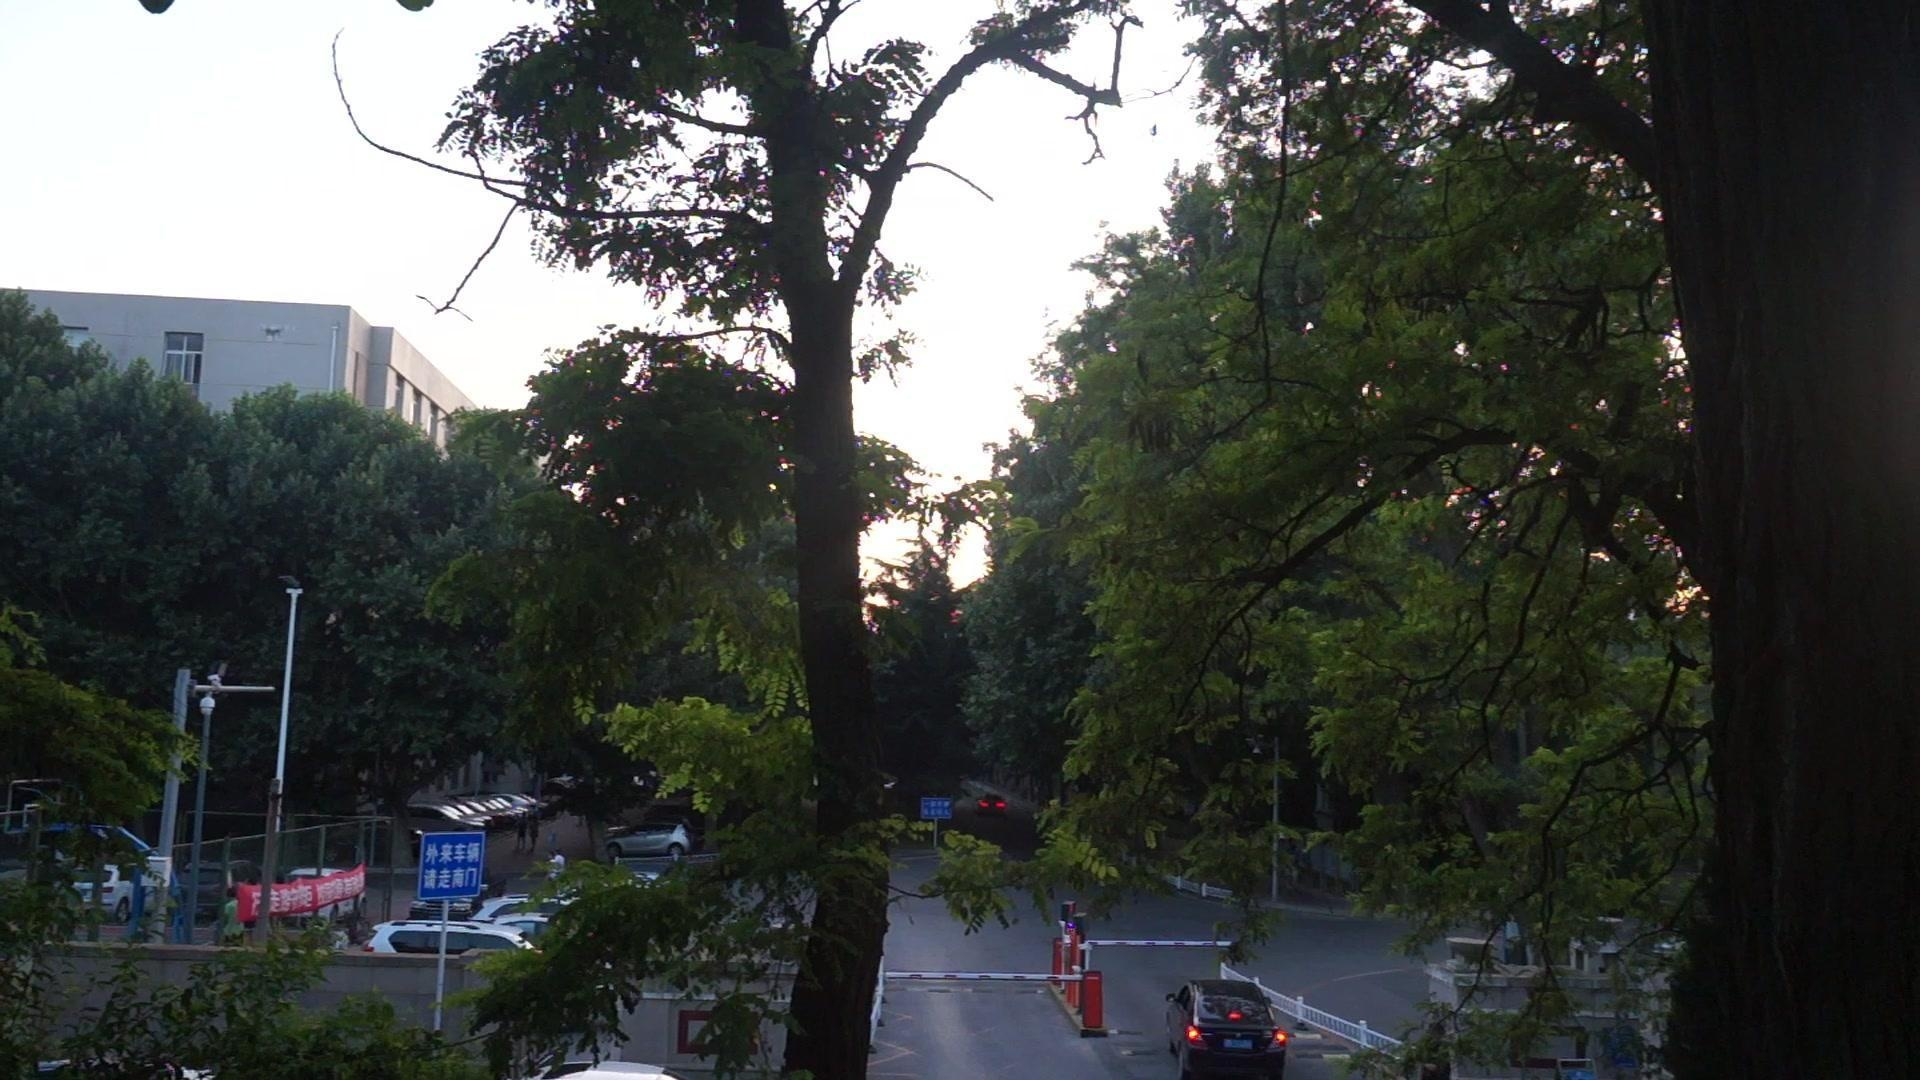UAV: (260, 324, 293, 343)
